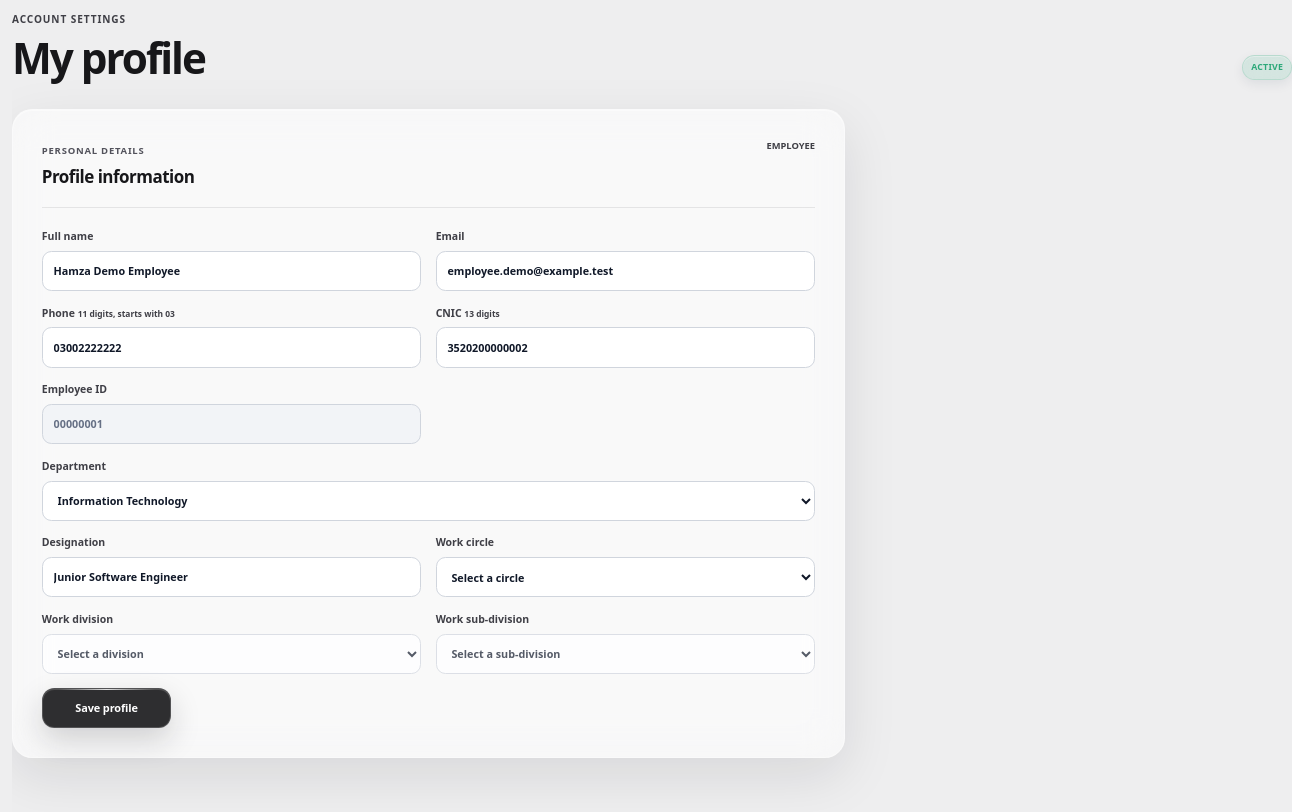
Test: My Profile › loads a legacy employee profile and confirms a structured-location save beside the button
expect the heading "My profile" is shown: met, box [12, 36, 205, 80]
Select "Multan Circle" in the dropdown labelled "Work circle": (625, 577) [436, 557, 815, 597]
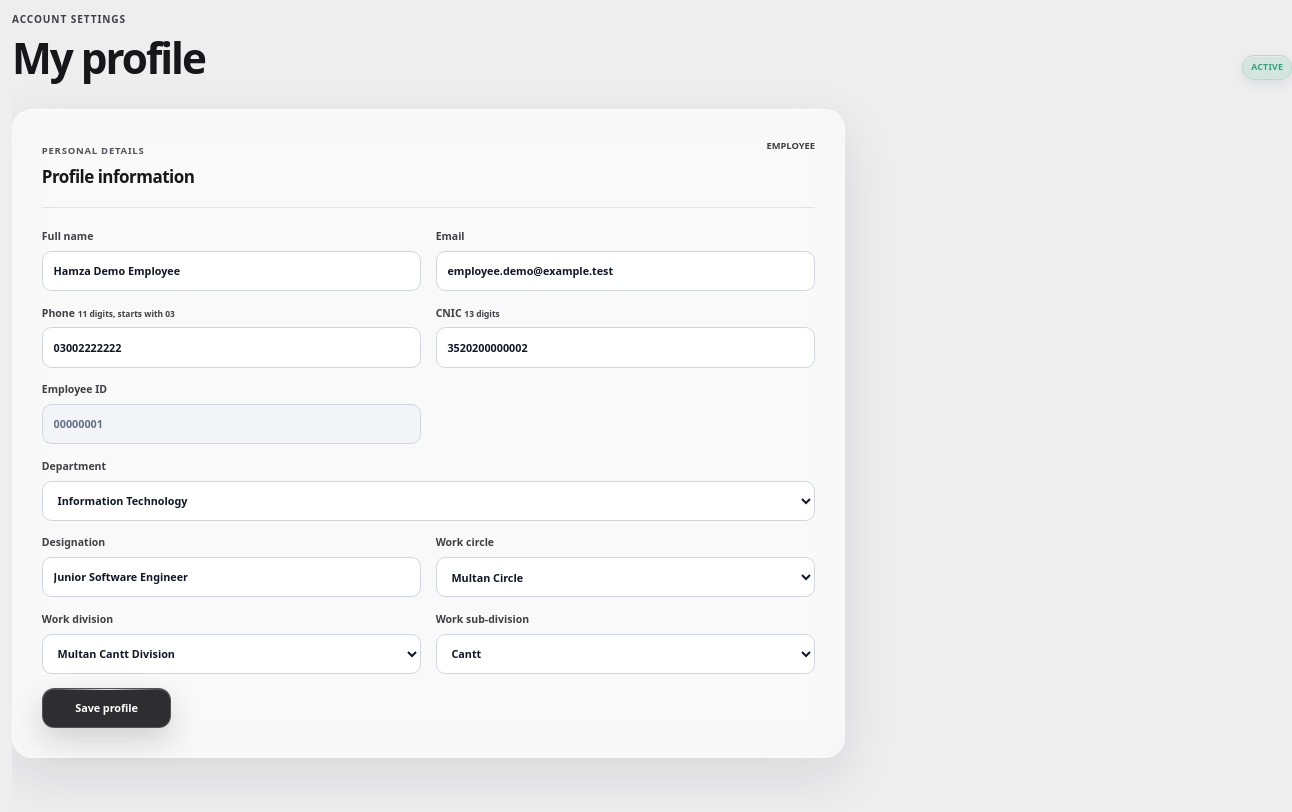
Click the button "Save profile": (107, 708) [42, 688, 171, 728]
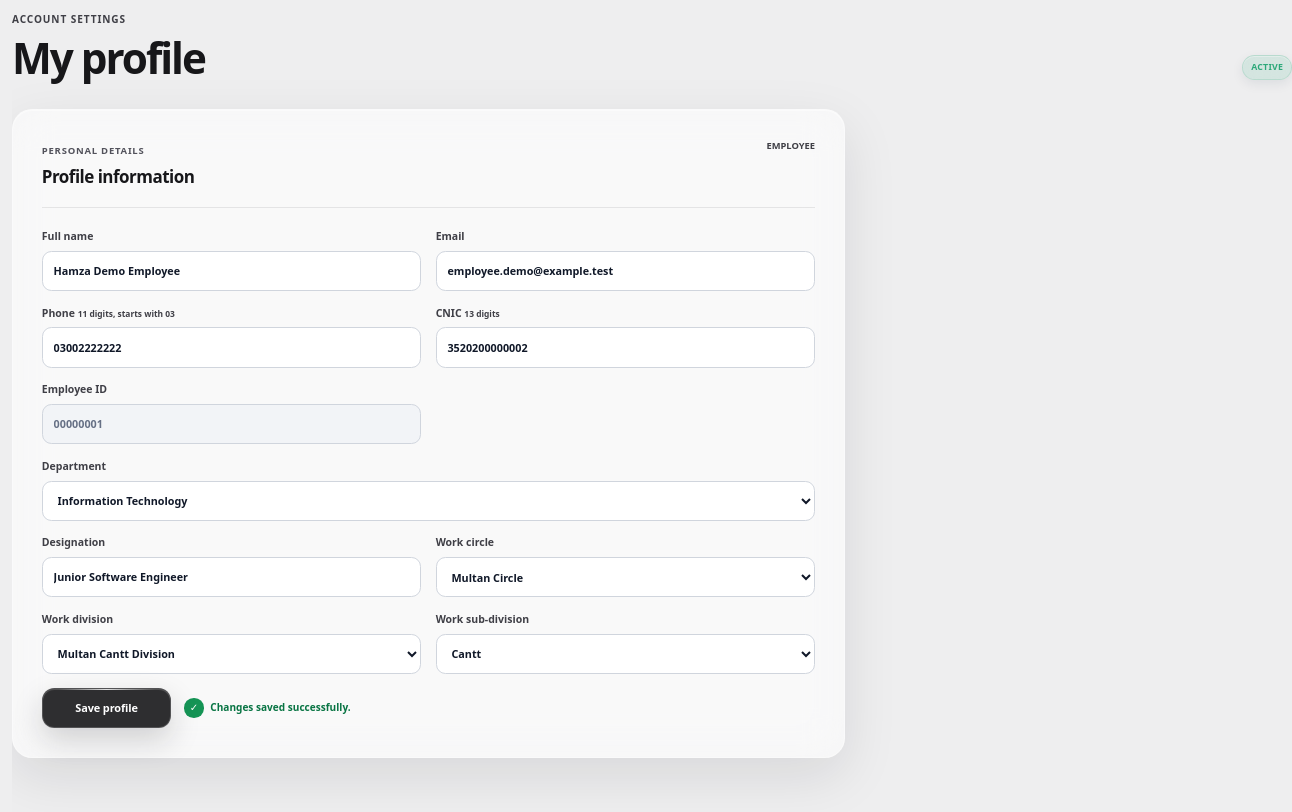
expect the message shows "Changes saved successfully.": met, box [210, 700, 351, 714]
